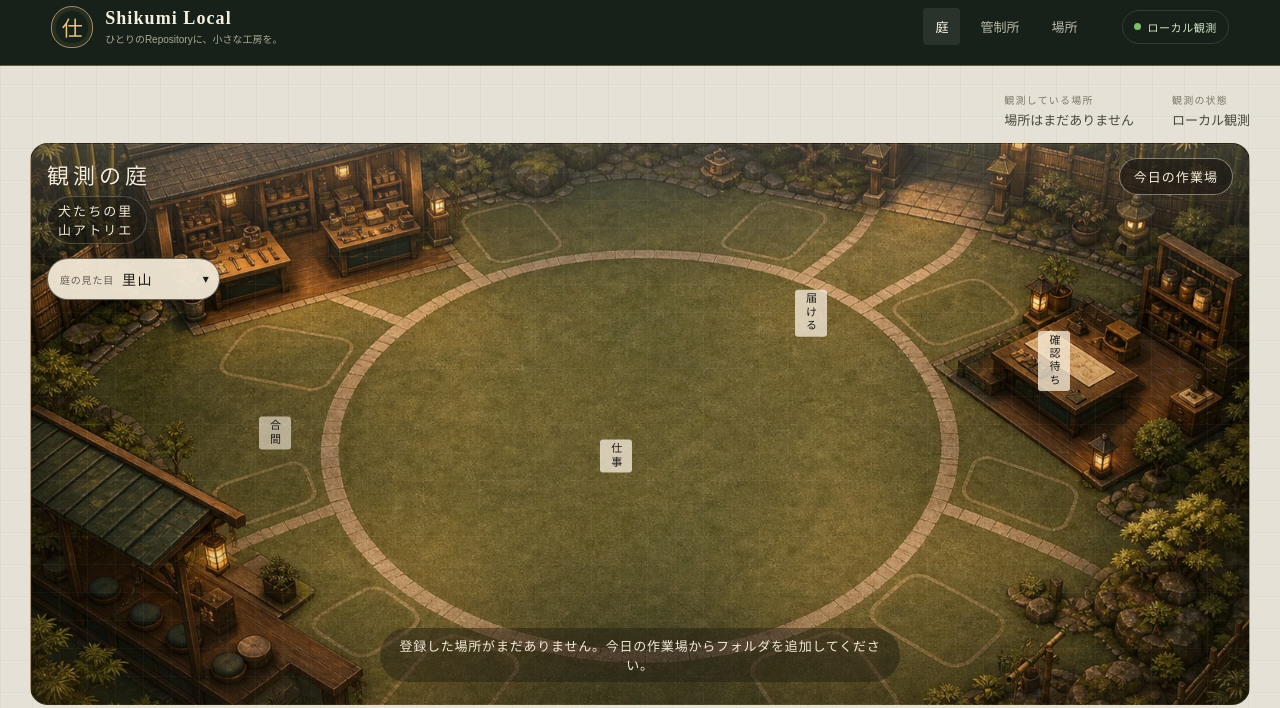
Test: Shikumi Local garden › navigates garden, today's workshop, and settings as first-class destinations
The image size is (1280, 708).
Expected: the heading "観測の庭" is shown, [47,164,151,189]
Click the link "管制所". click: (1000, 28)
box: [980,20,1020,35]
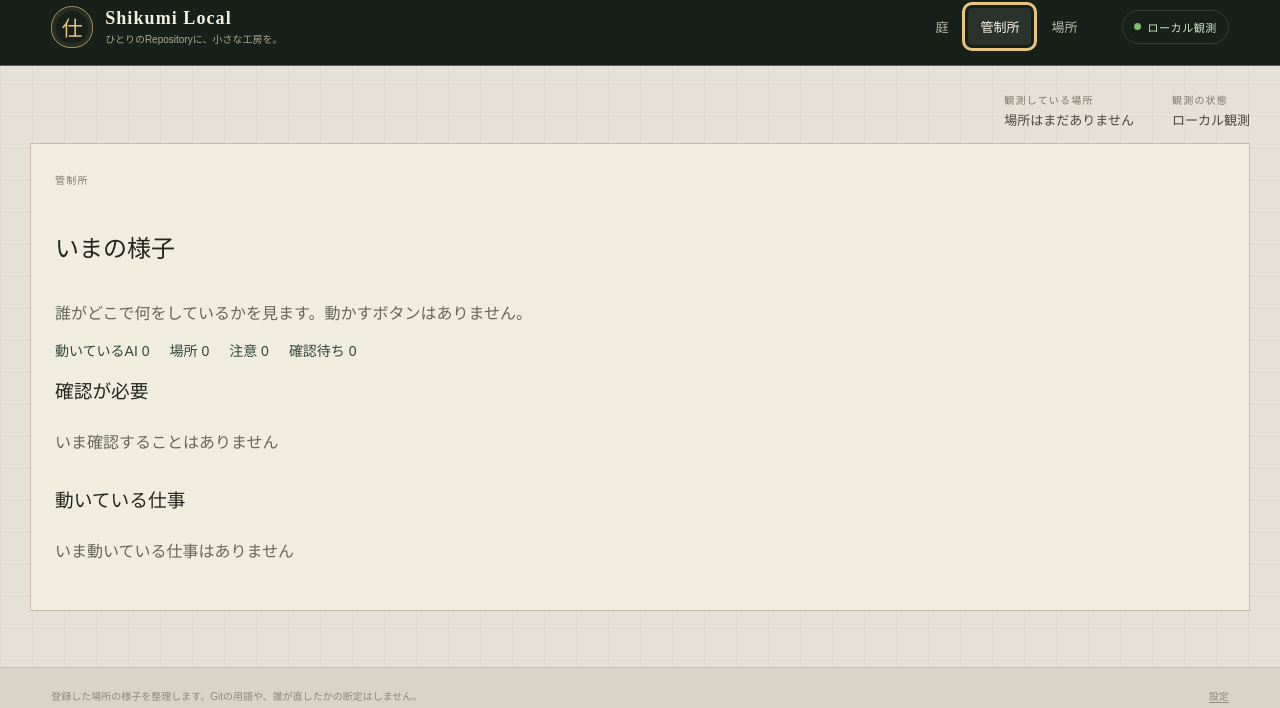
Now the heading "いまの様子" is shown, box [55,235,175,262]
Now the element with test id "control-room-summary" is shown, box [55,343,357,359]
Click the link "場所". click: (1064, 28)
box: [1052,20,1078,35]
(page scrolled)
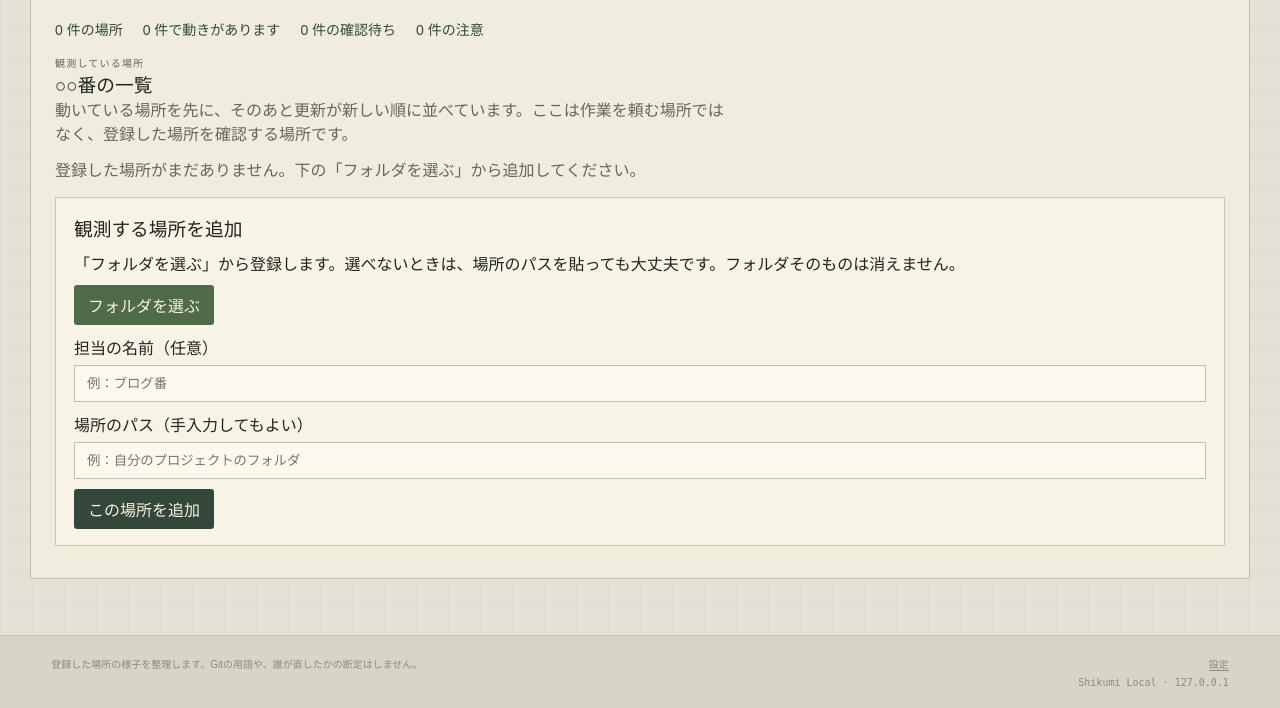
Click the link "設定". click: (1219, 663)
box: [1209,656,1229,671]
(page scrolled)
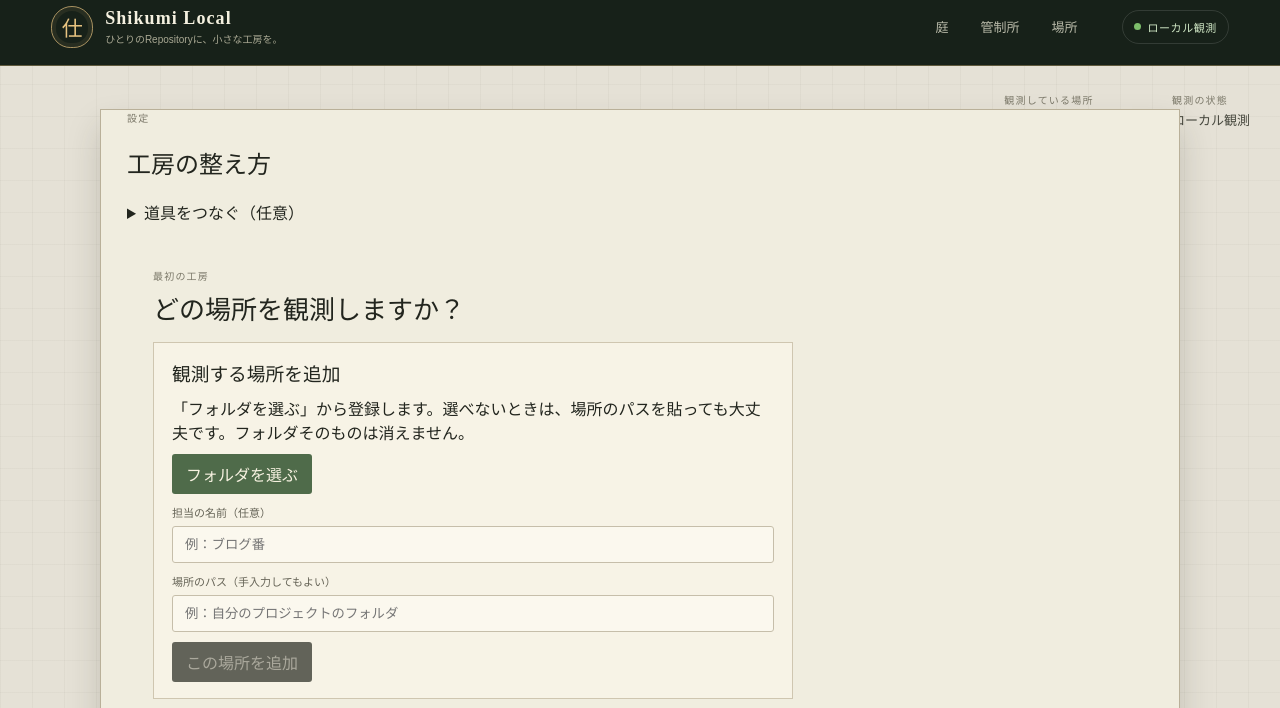
Now the heading "工房の整え方" is shown, box [127,151,271,178]
Click the link "庭". click: (942, 28)
box: [936,20,948,35]
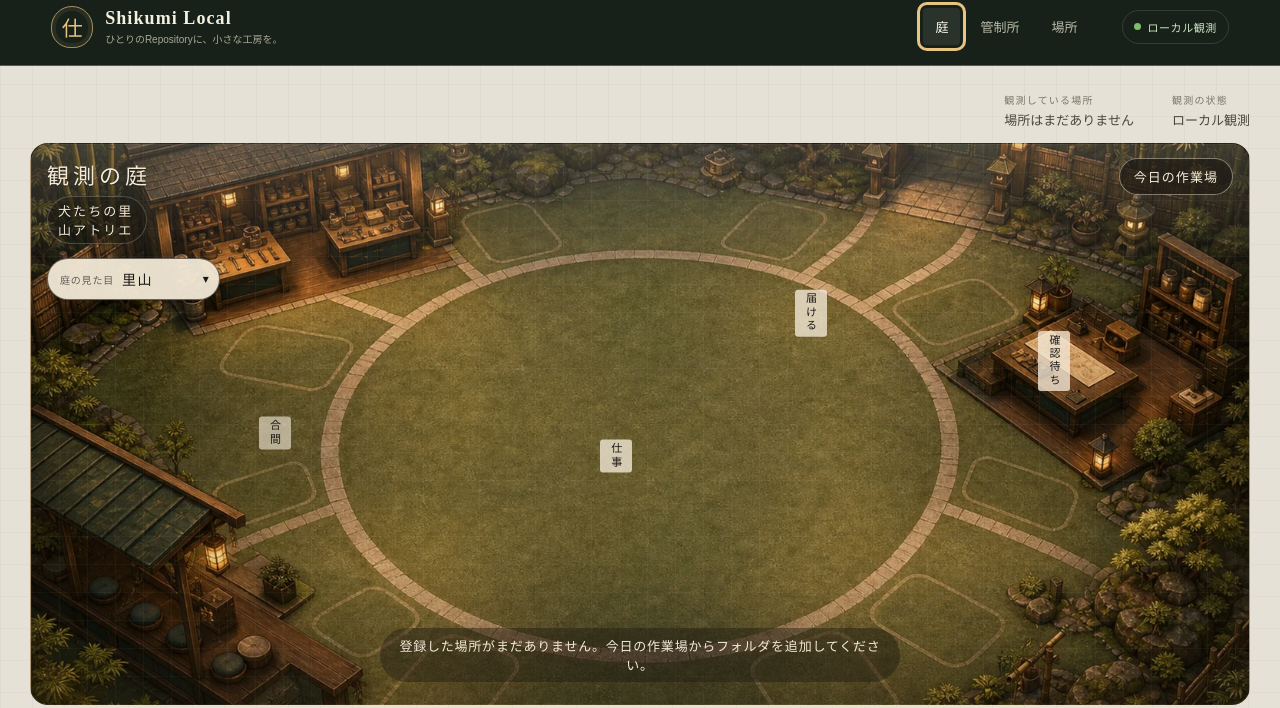
Expected: the element with test id "connection-badge" reads "ローカル観測", [1148,22,1217,34]
Now the heading "観測の庭" is shown, box [47,164,151,189]
